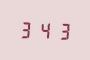four: (36, 19, 52, 40)
three: (18, 19, 34, 39), (53, 20, 69, 40)
